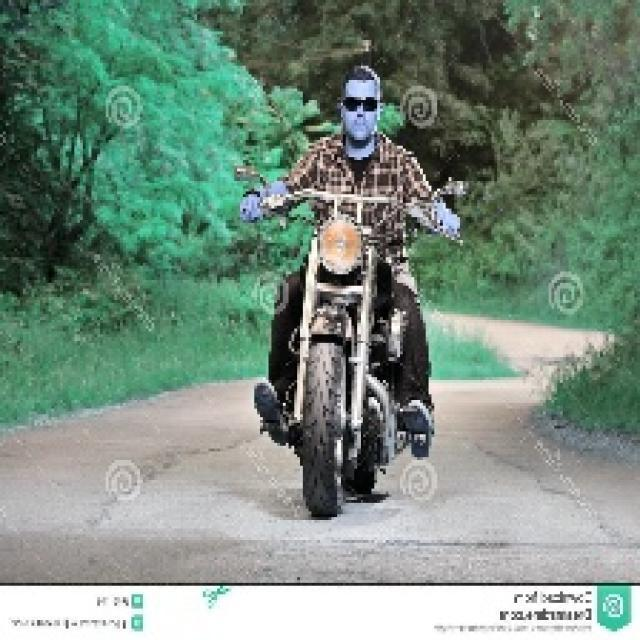bike: (277, 190, 413, 524)
